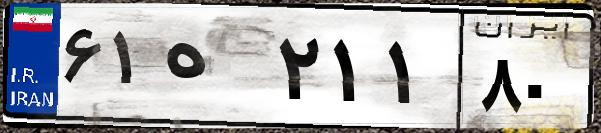0: (525, 38, 570, 115)
1: (385, 28, 445, 110), (330, 28, 385, 110), (110, 28, 158, 98)
2: (270, 28, 330, 110)
6: (57, 26, 110, 100)
8: (475, 38, 525, 113)
ه: (158, 20, 270, 120)
